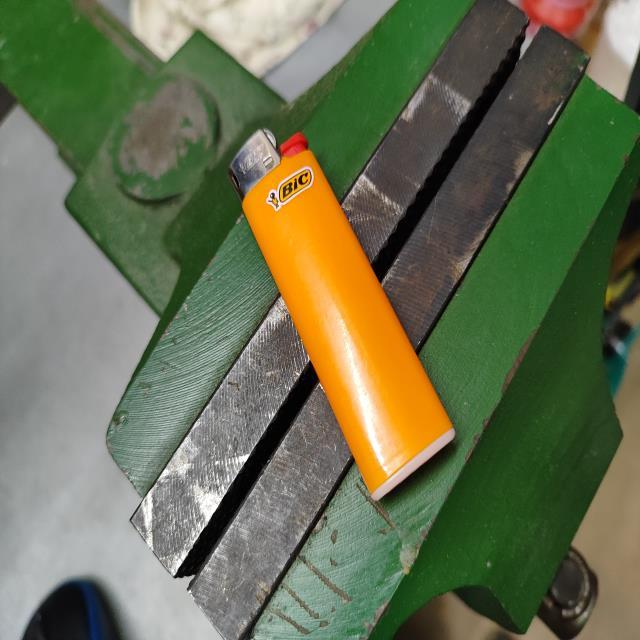lighter: (231, 131, 454, 499)
